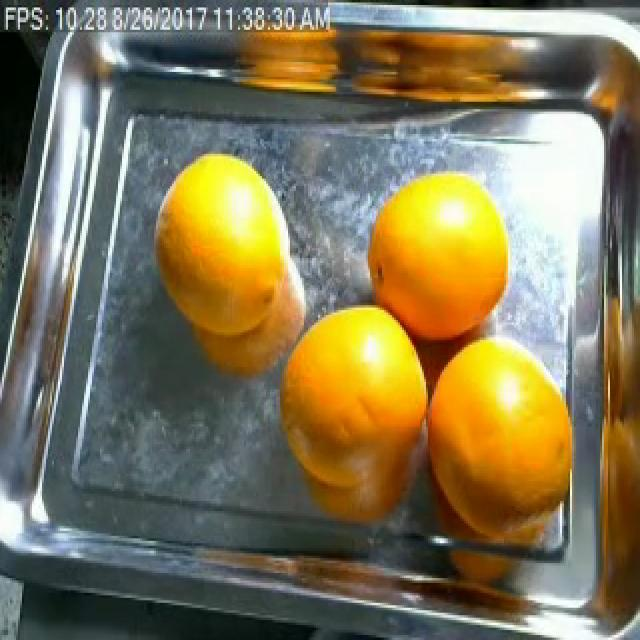Fruit: (352, 146, 528, 365), (138, 132, 304, 348)
